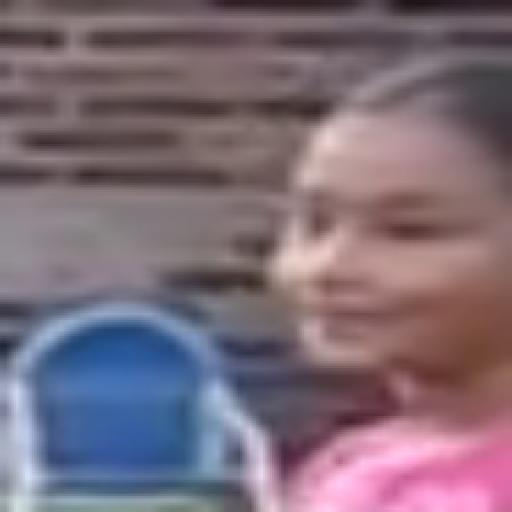Autism: (239, 79, 512, 395)
